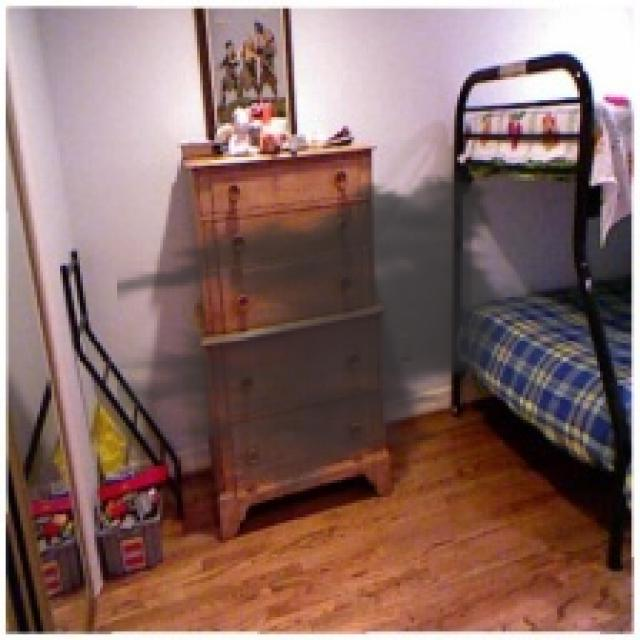smoke: (117, 157, 529, 503)
